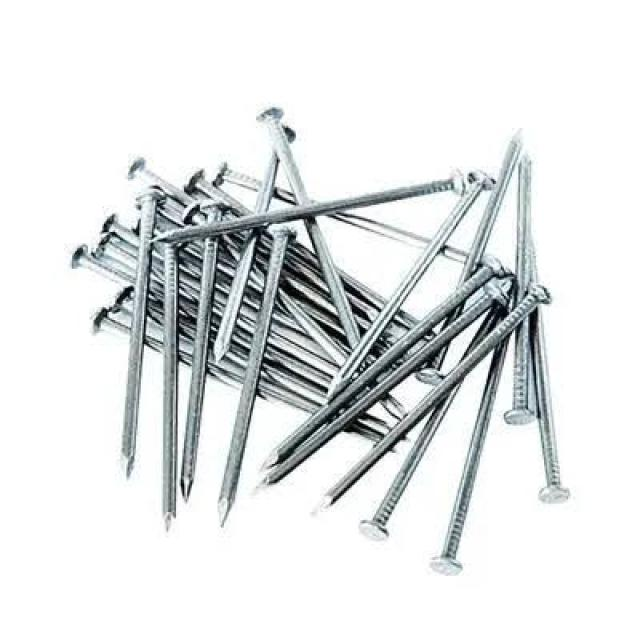3x8 nail: (230, 245, 560, 493), (141, 143, 477, 250)
